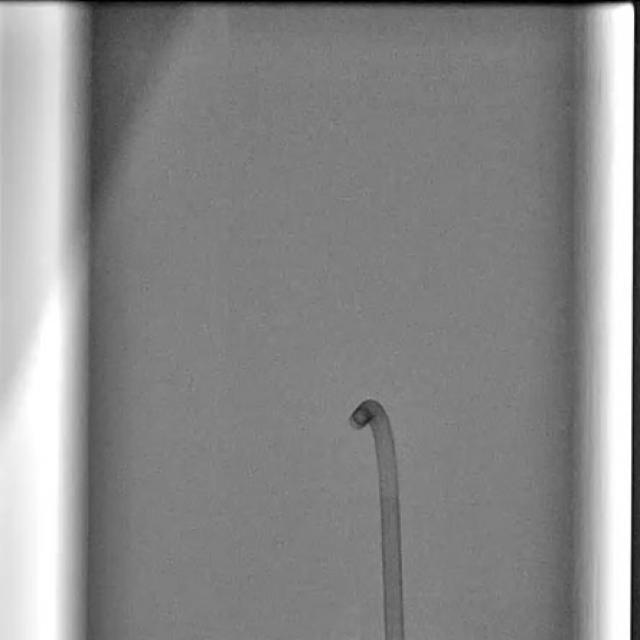bend: (380, 483, 399, 499)
entry: (383, 635, 403, 640)
marker: (351, 408, 372, 425)
tip: (348, 412, 368, 430)
